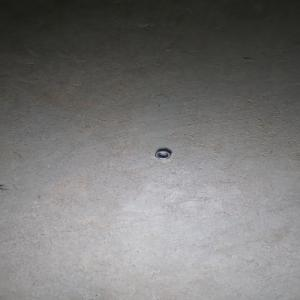Nut: (154, 149, 171, 160)
